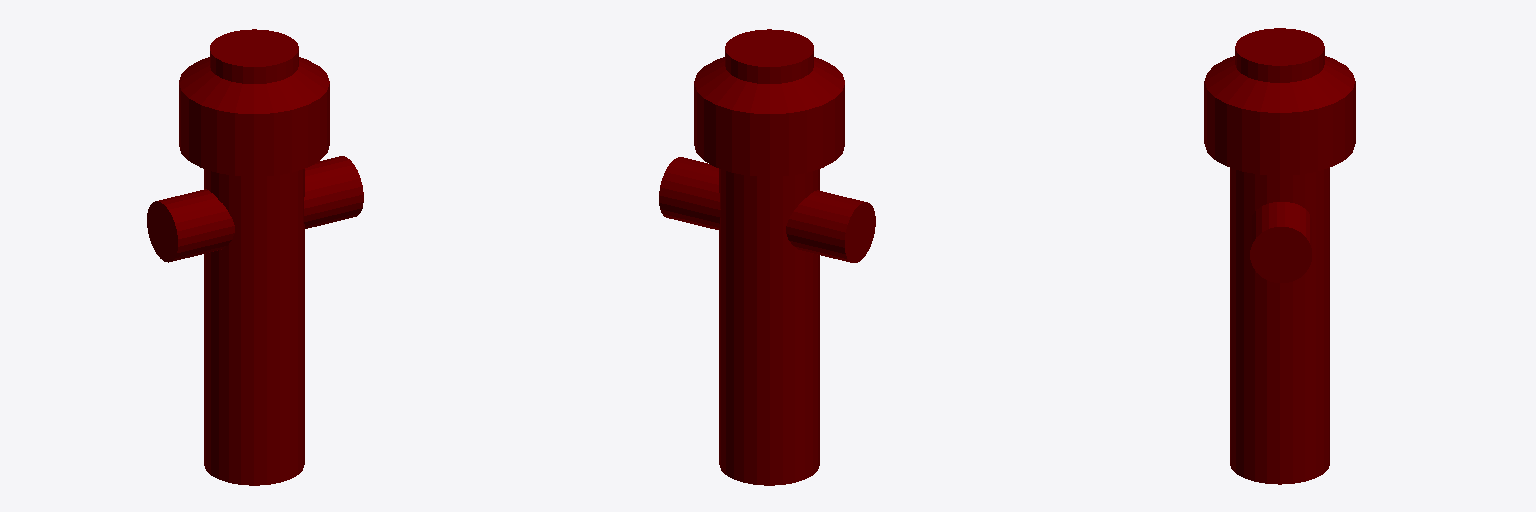
Rendered from fire_hydrant.obj.
The picture shows the model from 3 angles: view 1: azimuth 30°, elevation 25°; view 2: azimuth 150°, elevation 25°; view 3: azimuth 270°, elevation 25°; orthographic projection.
Parts seen in each view (by area): view 1: Mesh.003_SketchUp.001_ID188, Mesh.001_SketchUp.004_ID210, Mesh.002_SketchUp.008_ID234, Mesh.004_SketchUp.005_ID216, Mesh.005_SketchUp.007_ID228; view 2: Mesh.003_SketchUp.001_ID188, Mesh.001_SketchUp.004_ID210, Mesh.002_SketchUp.008_ID234, Mesh.004_SketchUp.005_ID216, Mesh.005_SketchUp.007_ID228; view 3: Mesh.003_SketchUp.001_ID188, Mesh.001_SketchUp.004_ID210, Mesh.008_SketchUp.006_ID222, Mesh.004_SketchUp.005_ID216, Mesh.002_SketchUp.008_ID234.
Part boxes in pixels (x1,y1,x2,y2): Mesh.003_SketchUp.001_ID188: (204,169,304,485); Mesh.001_SketchUp.004_ID210: (179,50,329,176); Mesh.002_SketchUp.008_ID234: (158,156,363,261); Mesh.004_SketchUp.005_ID216: (210,29,298,66); Mesh.005_SketchUp.007_ID228: (147,201,177,262); Mesh.003_SketchUp.001_ID188: (719,169,819,485); Mesh.001_SketchUp.004_ID210: (694,50,844,176); Mesh.002_SketchUp.008_ID234: (659,157,863,262); Mesh.004_SketchUp.005_ID216: (725,29,813,66); Mesh.005_SketchUp.007_ID228: (845,202,875,262); Mesh.003_SketchUp.001_ID188: (1230,168,1329,484); Mesh.001_SketchUp.004_ID210: (1204,48,1355,175); Mesh.008_SketchUp.006_ID222: (1250,227,1311,282); Mesh.004_SketchUp.005_ID216: (1235,28,1324,65); Mesh.002_SketchUp.008_ID234: (1250,202,1311,249).
Size of the model in its own units: 13.42 by 28.74 by 9.45.